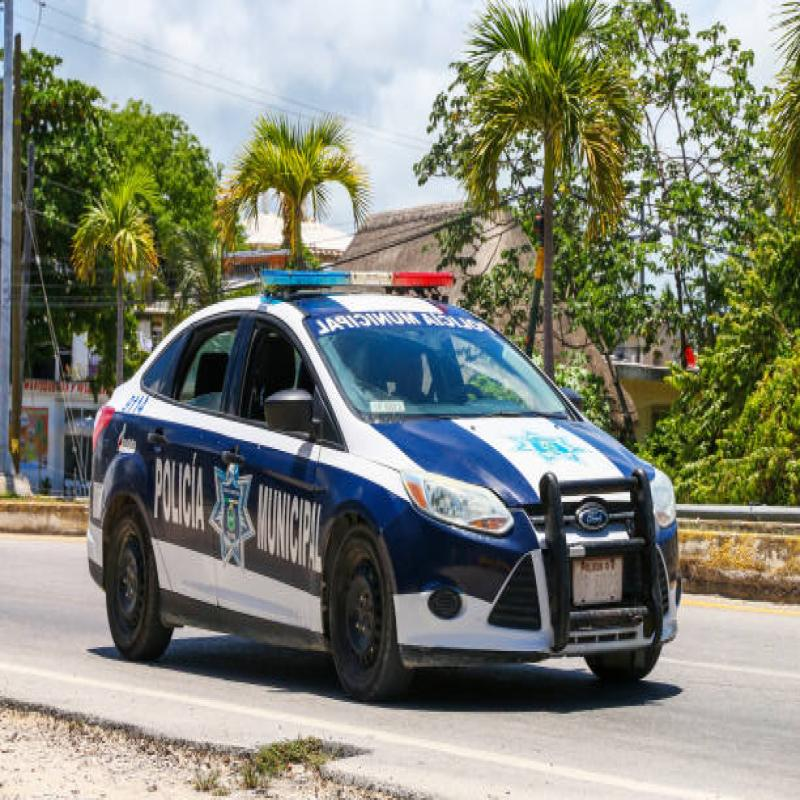AmbulanceSiren: (265, 232, 461, 304)
